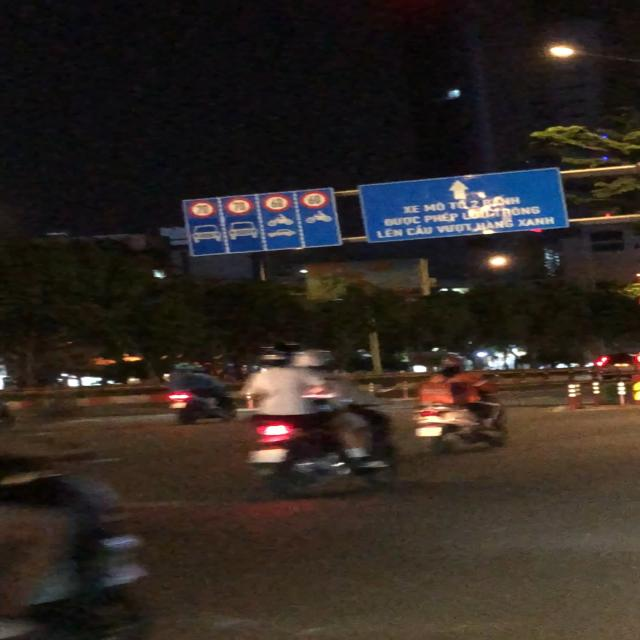Bien bao toc do toi da cho phep: (224, 196, 258, 216), (298, 191, 331, 209), (186, 200, 219, 218), (260, 194, 292, 212)
